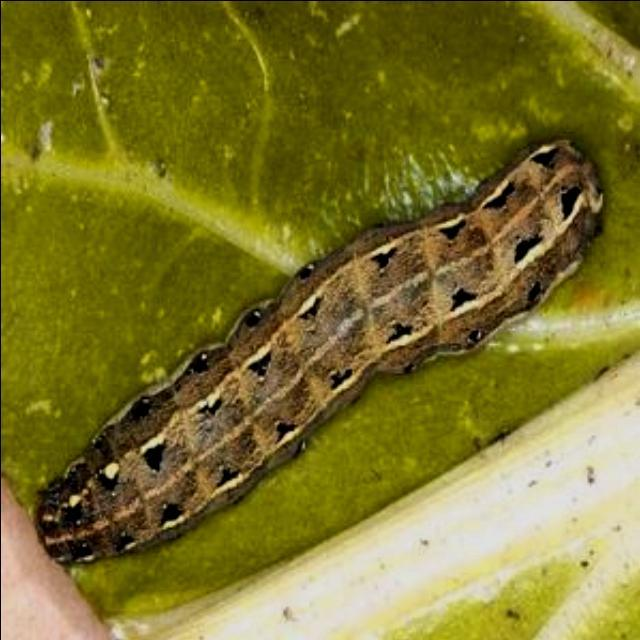Tobacco cutworm: (4, 50, 622, 598)
